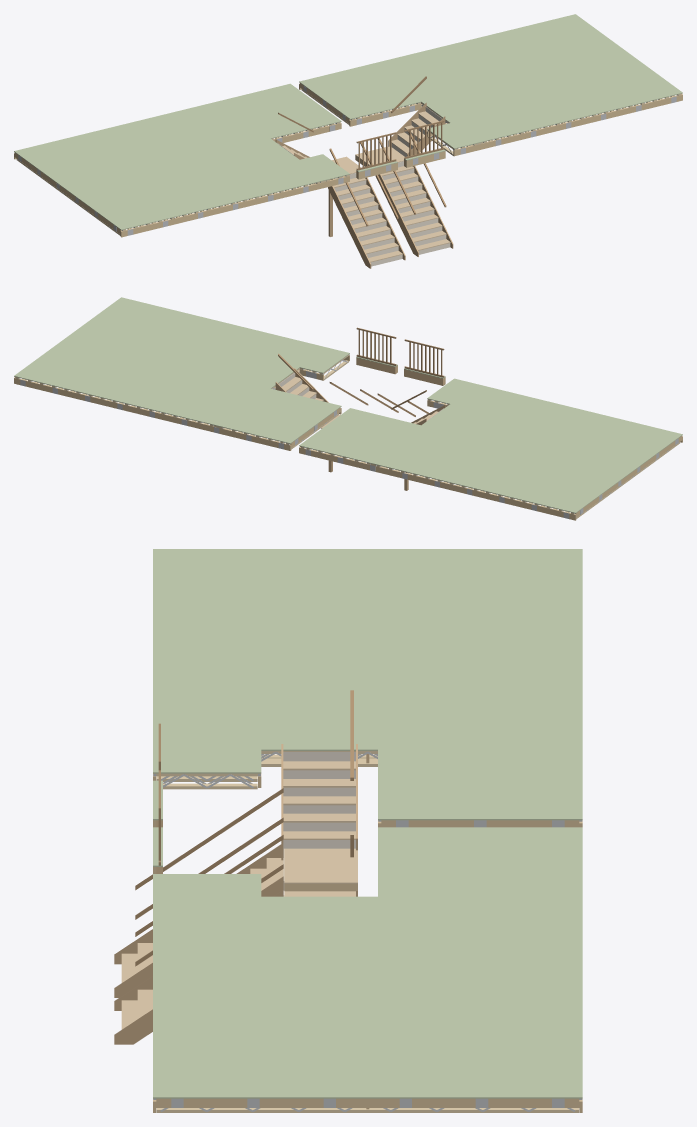
The model's file is stage-4.glb.
The picture shows the model from 3 angles, top to bottom: view 1: azimuth 30°, elevation 25°; view 2: azimuth 150°, elevation 25°; view 3: azimuth 270°, elevation 25°; orthographic projection. The views are drawn at different scales.
Visible parts, largest first — view 1: Geom3D (×8); view 2: Geom3D (×8); view 3: Geom3D (×9).
Boxes of the visible parts, <box> form: Geom3D (×8): <box>14,14,682,268</box>; Geom3D (×8): <box>14,297,682,520</box>; Geom3D (×9): <box>114,549,582,1112</box>.
Size of the model in its own units: 18.52 by 3.8 by 6.69.
